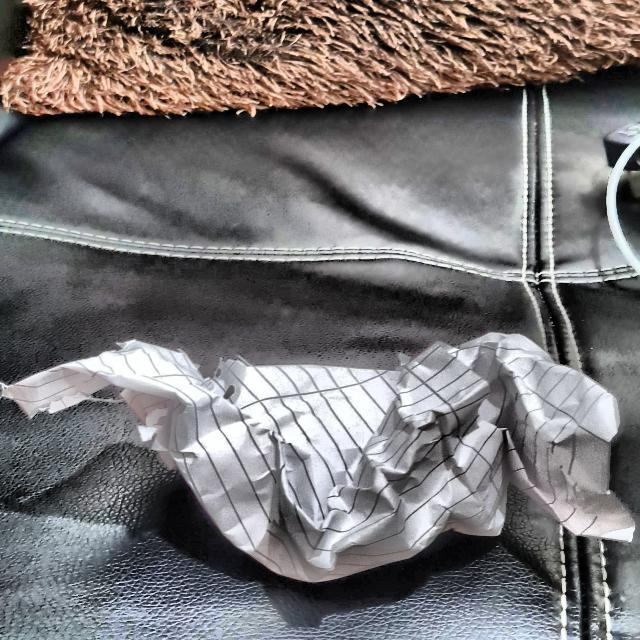paper: (20, 328, 629, 583)
